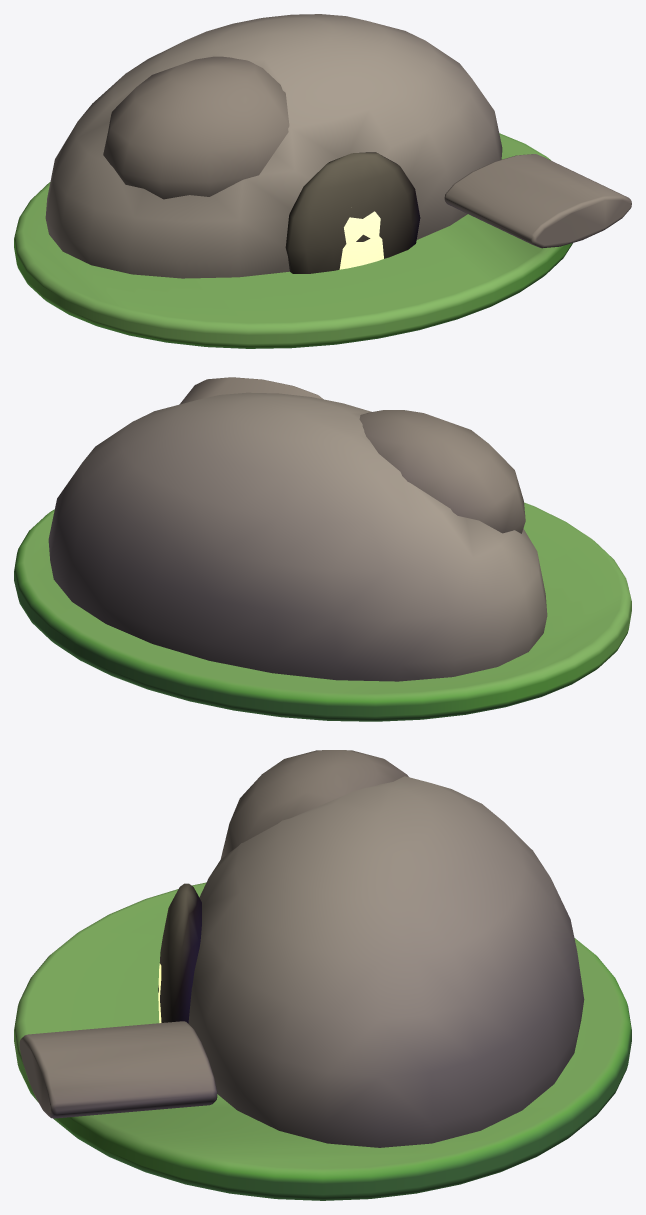
Rendered from tomb.glb.
The picture shows the model from 3 angles, top to bottom: view 1: azimuth 30°, elevation 25°; view 2: azimuth 150°, elevation 25°; view 3: azimuth 270°, elevation 25°; orthographic projection. The views are drawn at different scales.
Visible parts, largest first — view 1: tomb; view 2: tomb; view 3: tomb.
Part boxes in pixels (<box>): tomb: <box>14,14,631,348</box>; tomb: <box>14,377,631,721</box>; tomb: <box>14,750,631,1200</box>.
Bounding box in the file's own units: 6.4 × 2.3 × 5.44.
